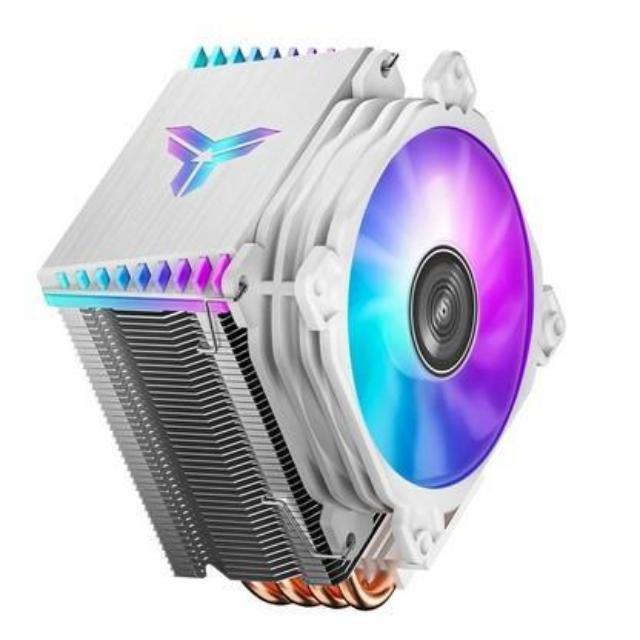CPU_Fan: (34, 39, 566, 606)
